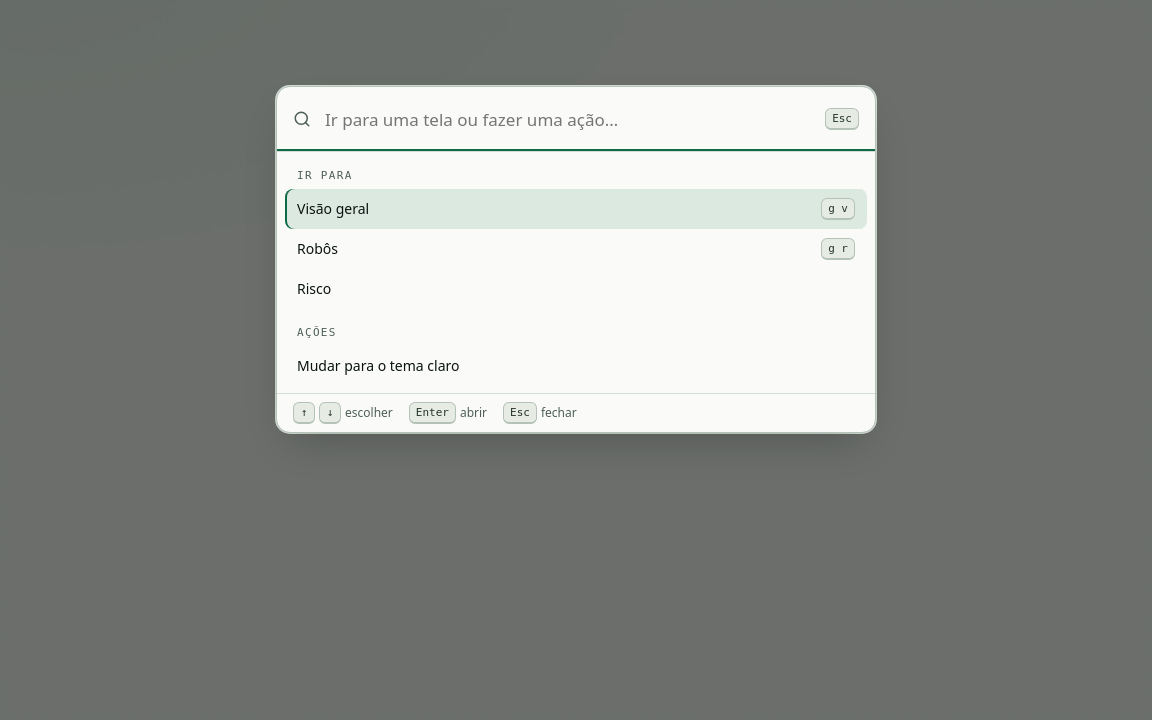
Scenario: Paleta de comandos › sem resultado, diz o que buscou
Step 1. Type "xyz" into the dropdown → (568, 119), box left=323, top=99, right=813, bottom=139
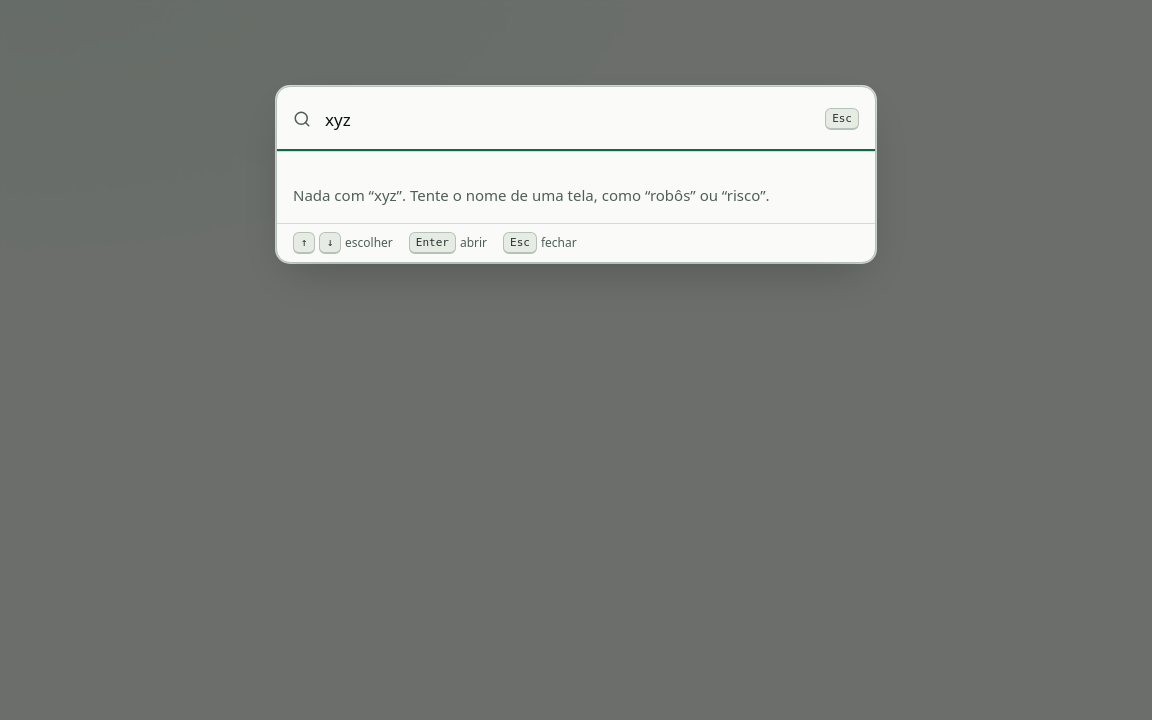
Now the text "Nada com “xyz”. Tente o nome de uma tela, como “robôs” ou “risco”." is shown, box left=293, top=185, right=770, bottom=205
